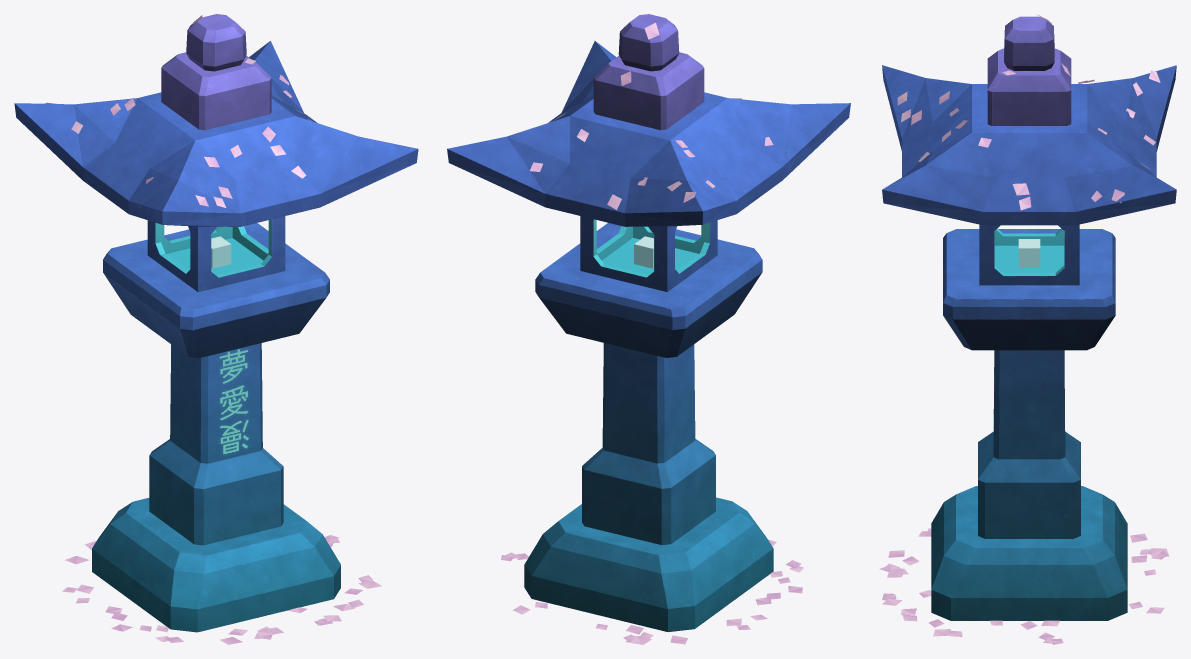
File: StoneLantern.fbx
3 renders of one model, left to right at view 1: azimuth 30°, elevation 25°; view 2: azimuth 150°, elevation 25°; view 3: azimuth 270°, elevation 25°, orthographic.
Visible parts, largest first — view 1: StoneLantern, LanternLight; view 2: StoneLantern; view 3: StoneLantern, LanternLight.
Part boxes in pixels (box(x1,y1,x2,y2)): StoneLantern: box(14, 14, 418, 644); LanternLight: box(211, 236, 231, 268); StoneLantern: box(447, 14, 850, 644); StoneLantern: box(879, 14, 1176, 644); LanternLight: box(1018, 239, 1040, 267).
Bounding box in the file's own units: 4.2 × 8.51 × 4.09.
Materials: 1 (1 with a texture image).
